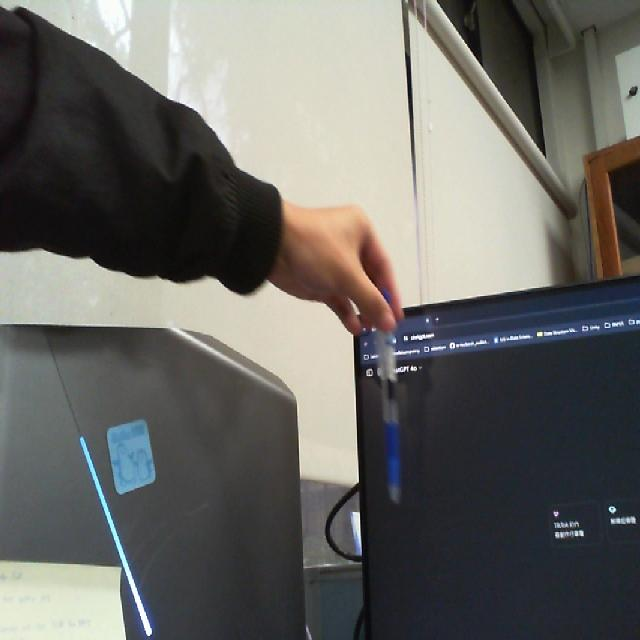Pen: (360, 276, 419, 539)
